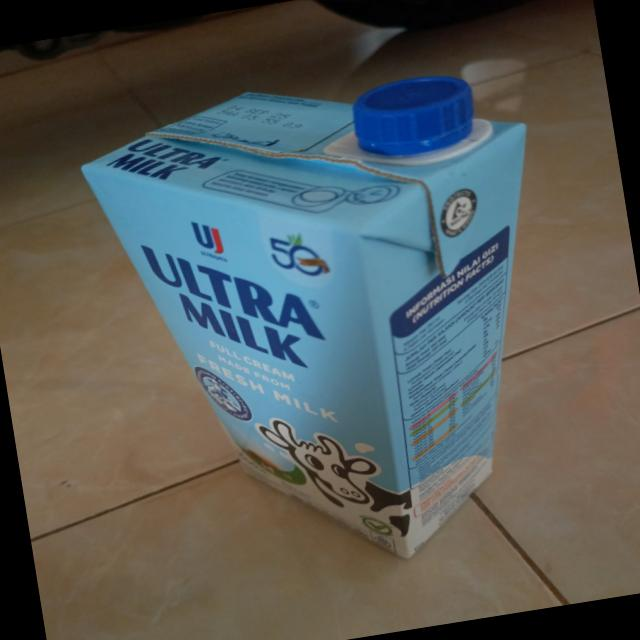ultramilk-full-cream: (72, 47, 593, 604)
